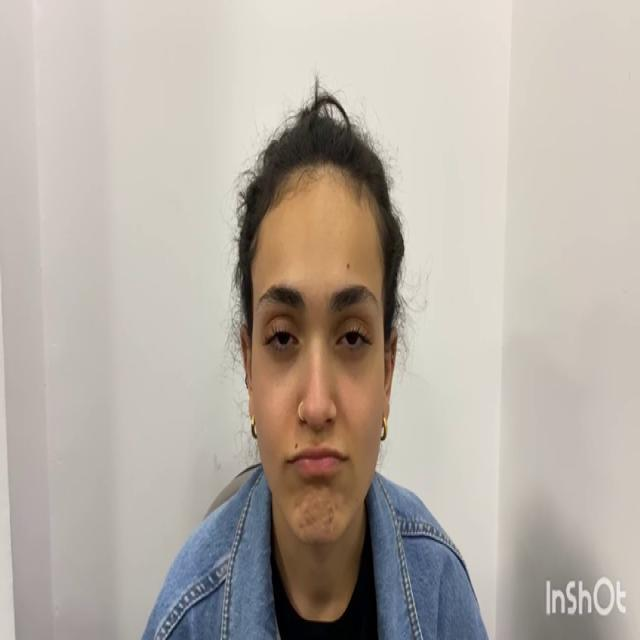sad: (242, 184, 394, 529)
